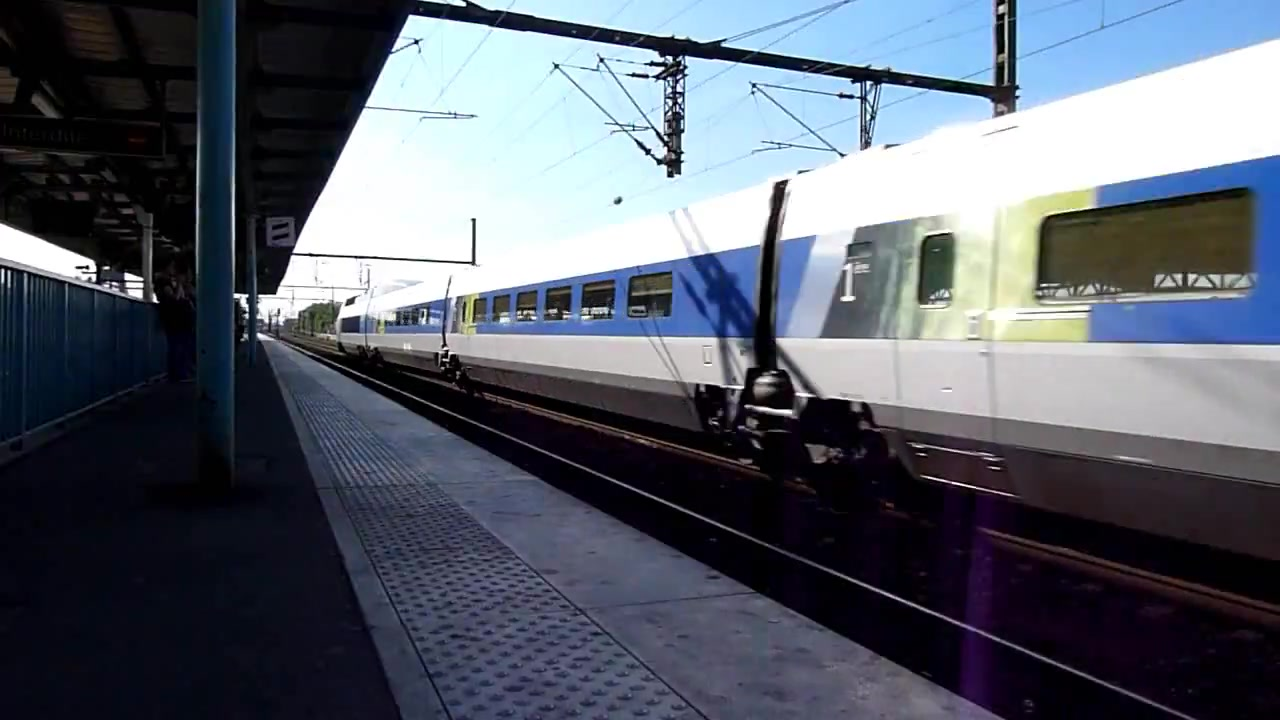train: (328, 35, 1280, 577)
